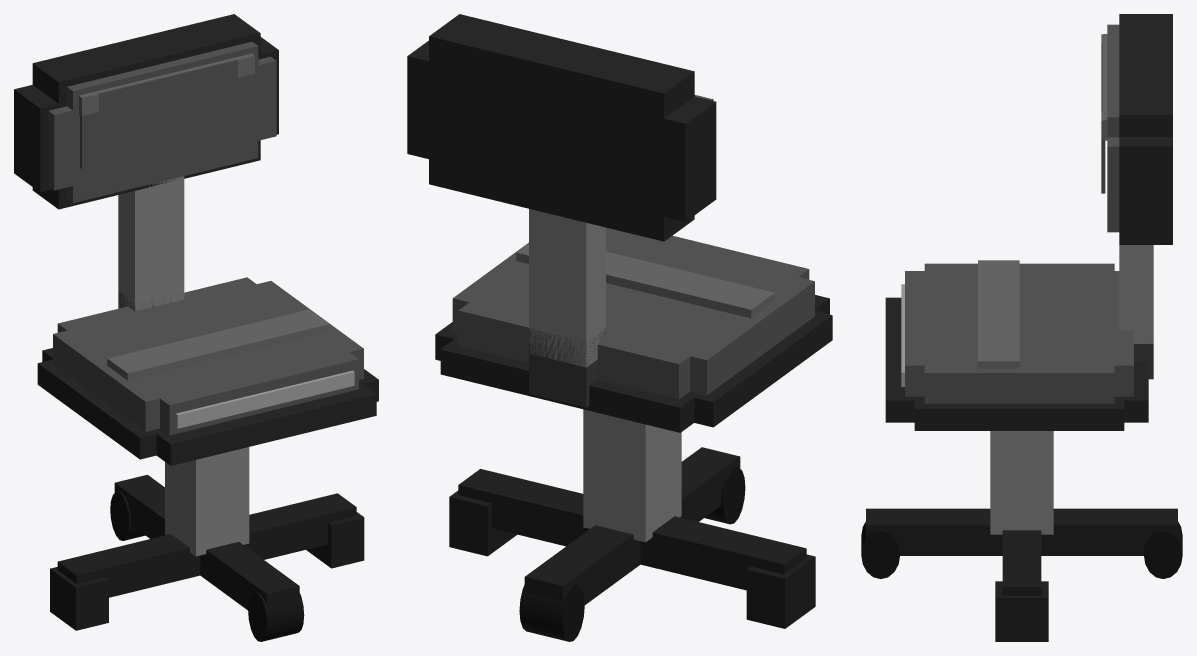
The model's file is CMU3DInheritedStructureCMChairOfficeWhiteCloud.glb.
3 views of the same model, side by side, from view 1: azimuth 30°, elevation 25°; view 2: azimuth 150°, elevation 25°; view 3: azimuth 270°, elevation 25° (orthographic). The views are drawn at different scales.
Parts seen in each view (by area): view 1: seat cushion center 08, seat cushion inset 09, white back upholstery, caster cross X 00, back cushion middle 15, back shell middle 13, back stem 03, lift pedestal 02, seat frame middle 07, caster cross Y 01, seat highlight band 10, back cushion center 14 (+8 smaller); view 2: back shell center 12, back shell middle 13, seat cushion inset 09, caster cross X 00, back stem 03, seat cushion center 08, lift pedestal 02, caster cross Y 01, seat frame middle 07, seat frame center 06, seat highlight band 10, caster wheel 04 (+4 smaller); view 3: seat cushion inset 09, caster cross Y 01, seat cushion center 08, back shell middle 13, lift pedestal 02, seat frame center 06, back shell center 12, seat highlight band 10, seat frame middle 07, back stem 03, caster wheel 05, caster cross X 00 (+7 smaller).
Part boxes in pixels (bbox=[...]): seat cushion center 08: bbox=[53, 281, 363, 431]; seat cushion inset 09: bbox=[57, 277, 358, 435]; white back upholstery: bbox=[80, 55, 254, 169]; caster cross X 00: bbox=[57, 493, 356, 597]; back cushion middle 15: bbox=[67, 41, 258, 202]; back shell middle 13: bbox=[32, 14, 260, 209]; back stem 03: bbox=[118, 176, 184, 311]; lift pedestal 02: bbox=[165, 447, 249, 556]; seat frame middle 07: bbox=[42, 348, 376, 465]; caster cross Y 01: bbox=[114, 474, 299, 609]; seat highlight band 10: bbox=[107, 309, 329, 380]; back cushion center 14: bbox=[48, 56, 276, 190]; back shell center 12: bbox=[407, 40, 716, 221]; back shell middle 13: bbox=[429, 14, 694, 241]; seat cushion inset 09: bbox=[458, 227, 809, 399]; caster cross X 00: bbox=[458, 469, 806, 590]; back stem 03: bbox=[529, 209, 605, 367]; seat cushion center 08: bbox=[452, 235, 814, 395]; lift pedestal 02: bbox=[583, 409, 681, 542]; caster cross Y 01: bbox=[524, 447, 740, 604]; seat frame middle 07: bbox=[440, 295, 829, 432]; seat frame center 06: bbox=[435, 311, 832, 427]; seat highlight band 10: bbox=[516, 243, 774, 318]; caster wheel 04: bbox=[746, 554, 815, 628]; seat cushion inset 09: bbox=[905, 271, 1133, 396]; caster cross Y 01: bbox=[866, 508, 1177, 555]; seat cushion center 08: bbox=[924, 263, 1114, 403]; back shell middle 13: bbox=[1119, 14, 1172, 244]; lift pedestal 02: bbox=[990, 431, 1053, 534]; seat frame center 06: bbox=[914, 400, 1124, 430]; back shell center 12: bbox=[1119, 137, 1172, 232]; seat highlight band 10: bbox=[978, 260, 1019, 368]; seat frame middle 07: bbox=[885, 297, 1148, 422]; back stem 03: bbox=[1119, 245, 1153, 343]; caster wheel 05: bbox=[995, 581, 1048, 641]; caster cross X 00: bbox=[1002, 530, 1041, 595].
Bounding box in the file's own units: 0.7 × 1.15 × 0.66.
Materials: 9 (1 with a texture image).
